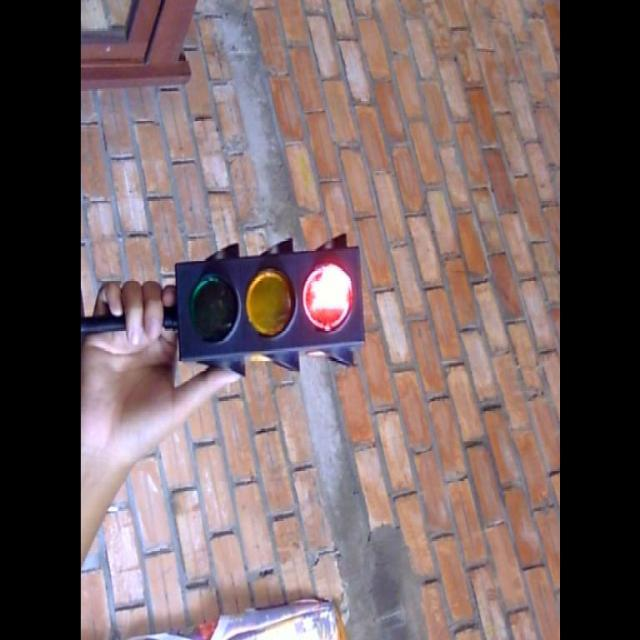red light: (300, 254, 358, 335)
